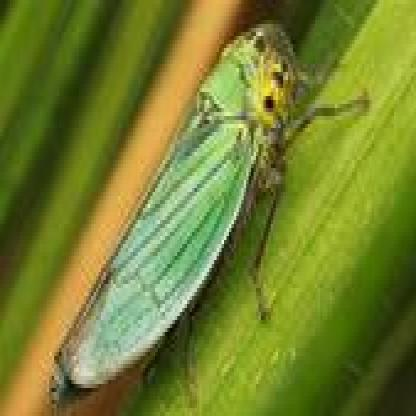Green-Leafhopper: (46, 16, 374, 416)
